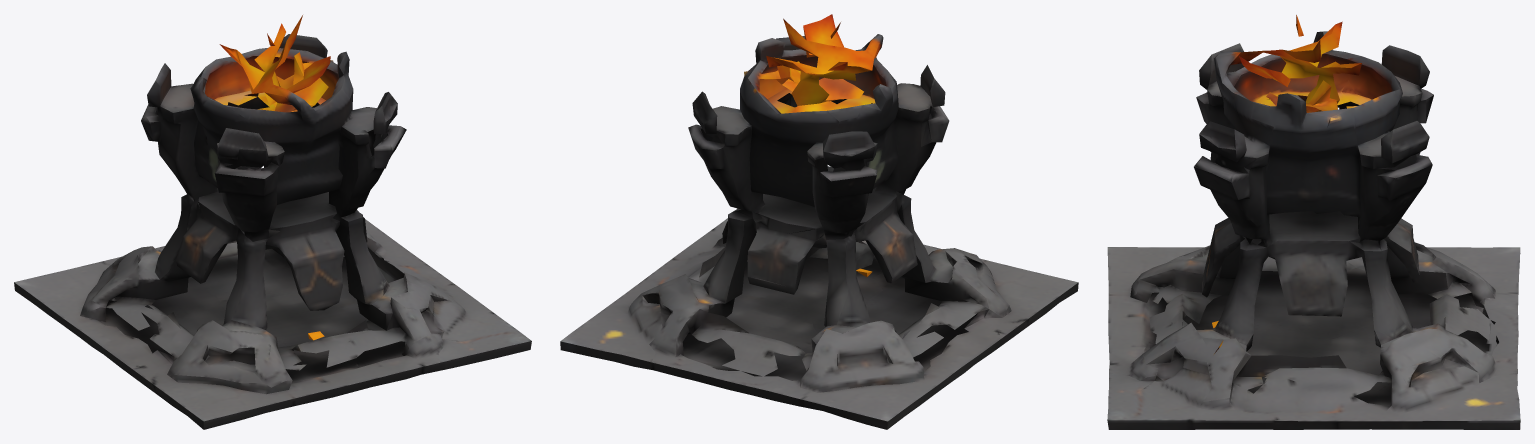
File: ashen-brazier.glb
3 views of the same model, side by side, from view 1: azimuth 30°, elevation 25°; view 2: azimuth 150°, elevation 25°; view 3: azimuth 270°, elevation 25° (orthographic). The views are drawn at different scales.
Parts seen in each view (by area): view 1: a-black-iron-medieval-siege-brazier-square_optimized; view 2: a-black-iron-medieval-siege-brazier-square_optimized; view 3: a-black-iron-medieval-siege-brazier-square_optimized.
Part boxes in pixels (<box>): a-black-iron-medieval-siege-brazier-square_optimized: <box>14,15,531,429</box>; a-black-iron-medieval-siege-brazier-square_optimized: <box>560,14,1078,429</box>; a-black-iron-medieval-siege-brazier-square_optimized: <box>1107,15,1520,429</box>.
Bounding box in the file's own units: 0.9928 × 0.8623 × 0.9951.
1 material, 1 textured.
